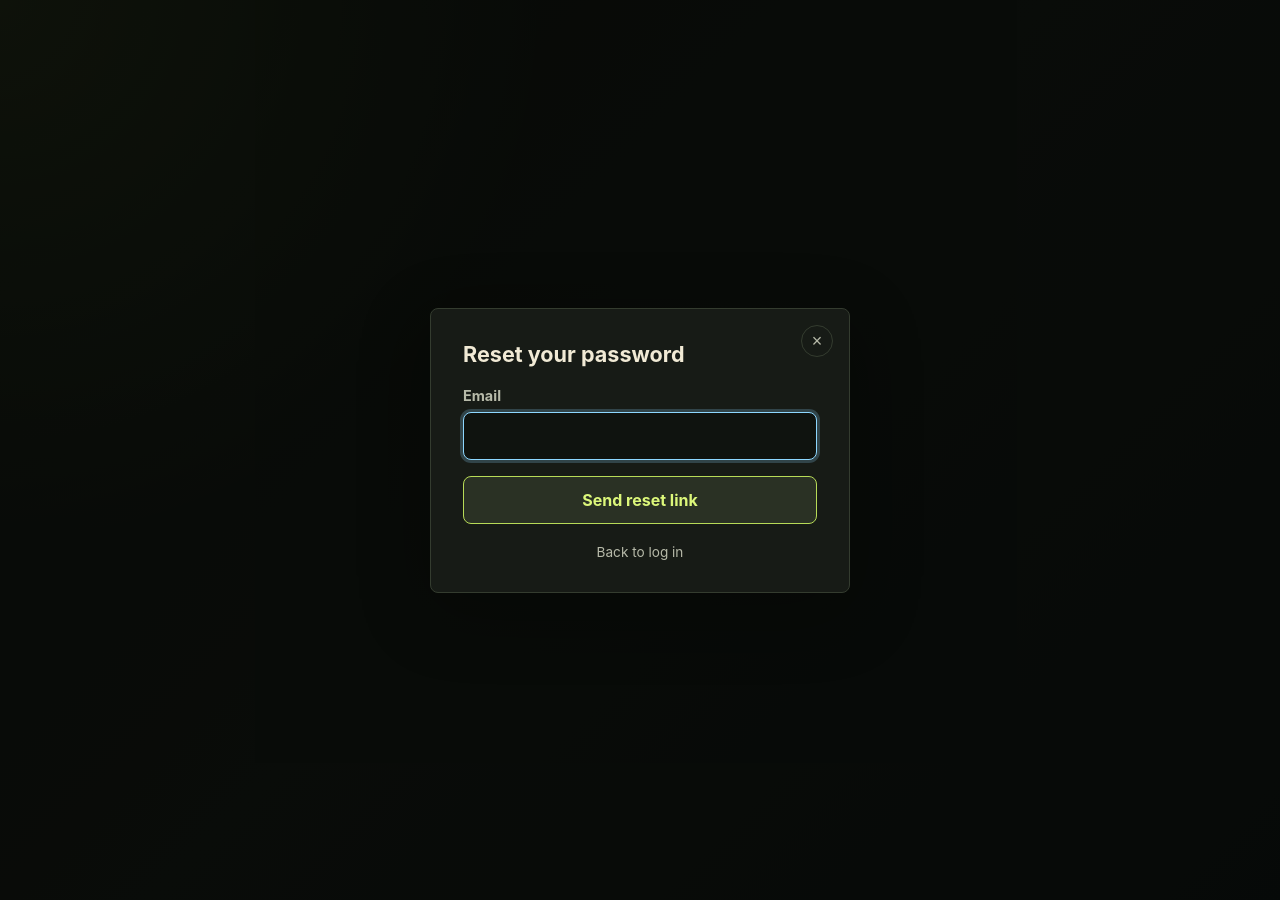
Scenario: AuthModal — forgot password › renders a resetPasswordForEmail error via #authError
The width and height of the screenshot is (1280, 900).
Step 1. Type "frog@example.com" into the field with id "authEmail" → (640, 436), box [463,412,817,460]
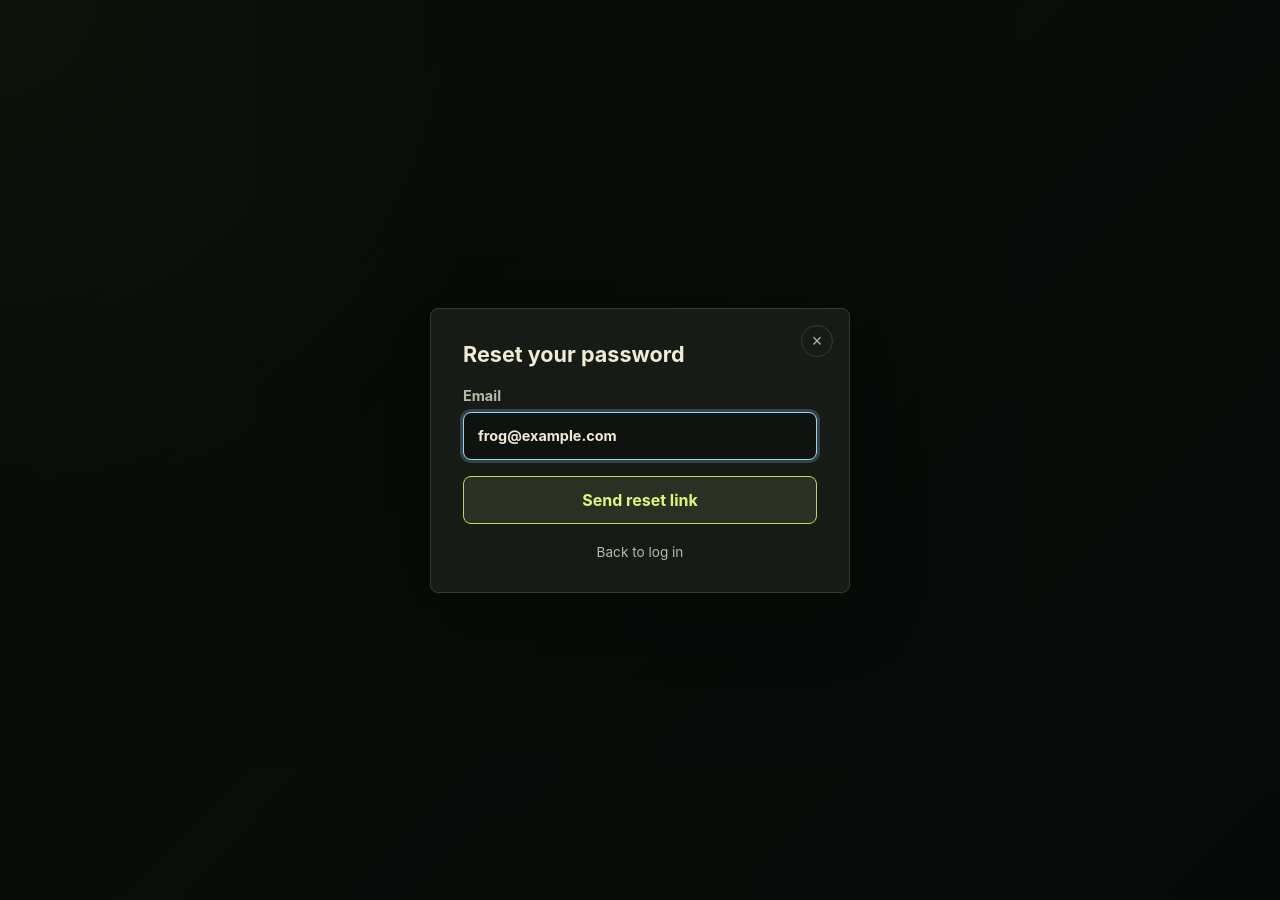
Step 2. Click the button "Send reset link" → (640, 500), box [463,476,817,524]
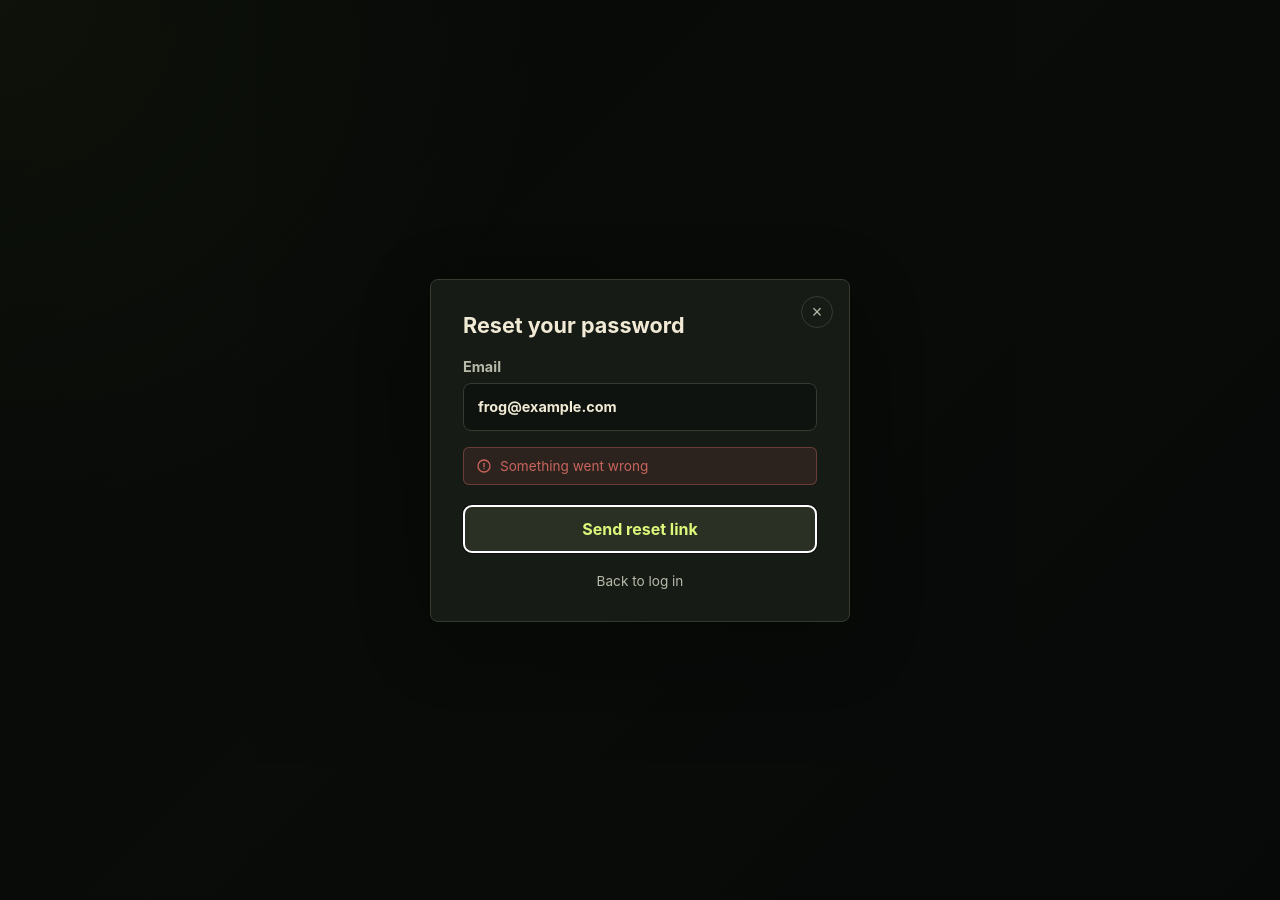
Expected: the text "Something went wrong" is shown, [463,446,817,484]
